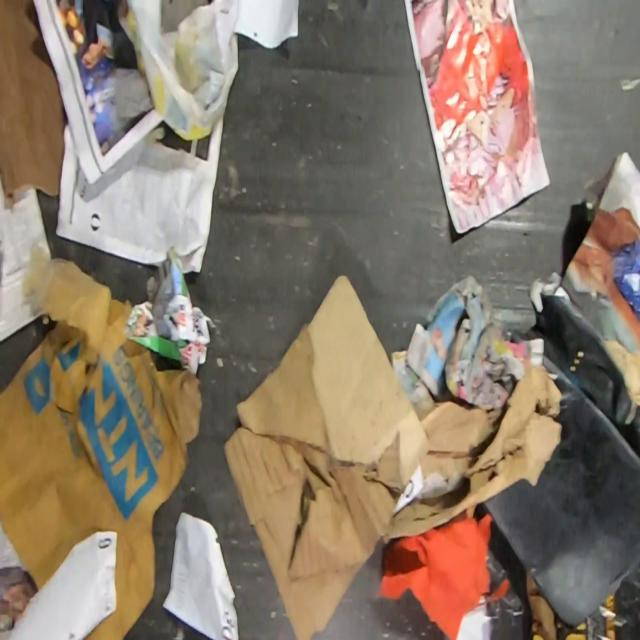cardboard: (222, 275, 563, 639), (0, 244, 202, 638), (0, 0, 68, 198)
soft_plastic: (116, 0, 242, 143)
